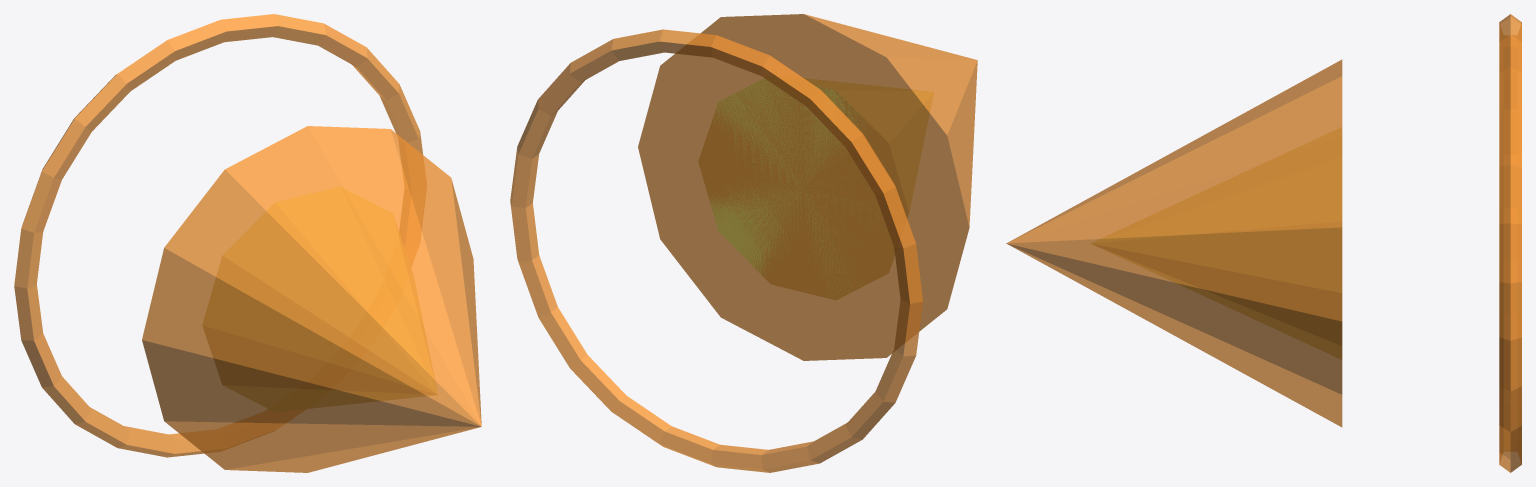
The model's file is vfx_fire_burst.glb.
The picture shows the model from 3 angles, left to right: view 1: azimuth 30°, elevation 25°; view 2: azimuth 150°, elevation 25°; view 3: azimuth 270°, elevation 25°; orthographic projection. The views are drawn at different scales.
Visible parts, largest first — view 1: outer, inner, ring; view 2: outer, inner, ring; view 3: outer, inner, ring.
Boxes of the visible parts, x1,y1,x2,y2 form: outer: (142,126,481,472); inner: (203,187,437,411); ring: (14,14,423,457); outer: (638,14,977,360); inner: (699,78,933,299); ring: (510,29,923,472); outer: (1006,59,1342,427); inner: (1091,128,1341,358); ring: (1499,14,1521,472).
Size of the model in its own units: 1.37 by 1.37 by 1.53.
